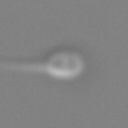normal: (1, 57, 47, 79)
